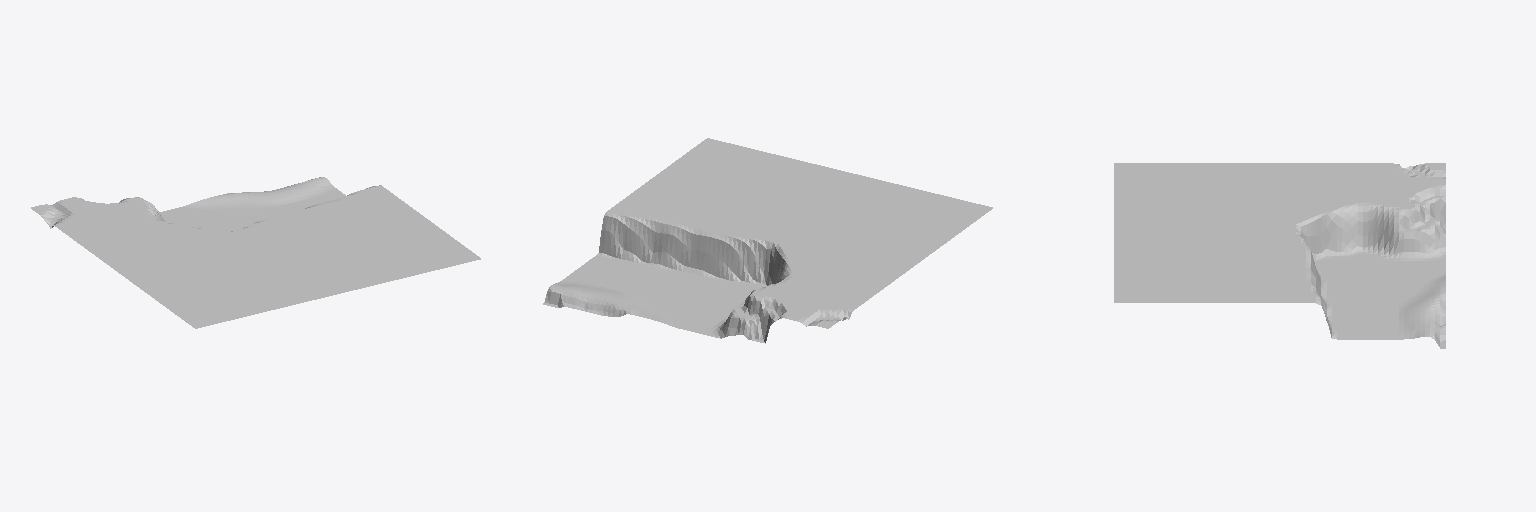
The model's file is SM_Terrain_Tuto1Chunk1.2.obj.
3 views of the same model, side by side, from view 1: azimuth 30°, elevation 25°; view 2: azimuth 150°, elevation 25°; view 3: azimuth 270°, elevation 25° (orthographic).
Size of the model in its own units: 100 by 15.02 by 100.